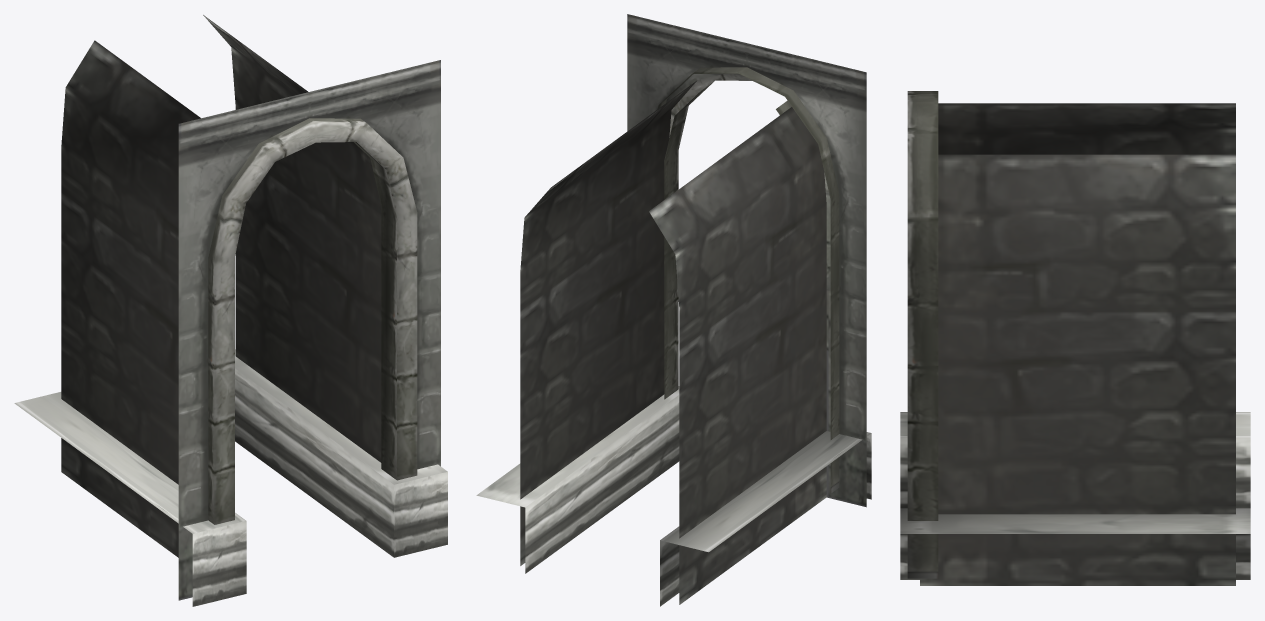
File: unity_dungeon_gate01.FBX
3 views of the same model, side by side, from view 1: azimuth 30°, elevation 25°; view 2: azimuth 150°, elevation 25°; view 3: azimuth 270°, elevation 25° (orthographic). The views are drawn at different scales.
Parts seen in each view (by area): view 1: unity_dungeon_gate01; view 2: unity_dungeon_gate01; view 3: unity_dungeon_gate01.
Boxes of the visible parts, x1,y1,x2,y2 form: unity_dungeon_gate01: [14, 15, 447, 606]; unity_dungeon_gate01: [476, 14, 871, 606]; unity_dungeon_gate01: [900, 91, 1250, 585].
Bounding box in the file's own units: 3.63 × 6.3 × 4.28.
